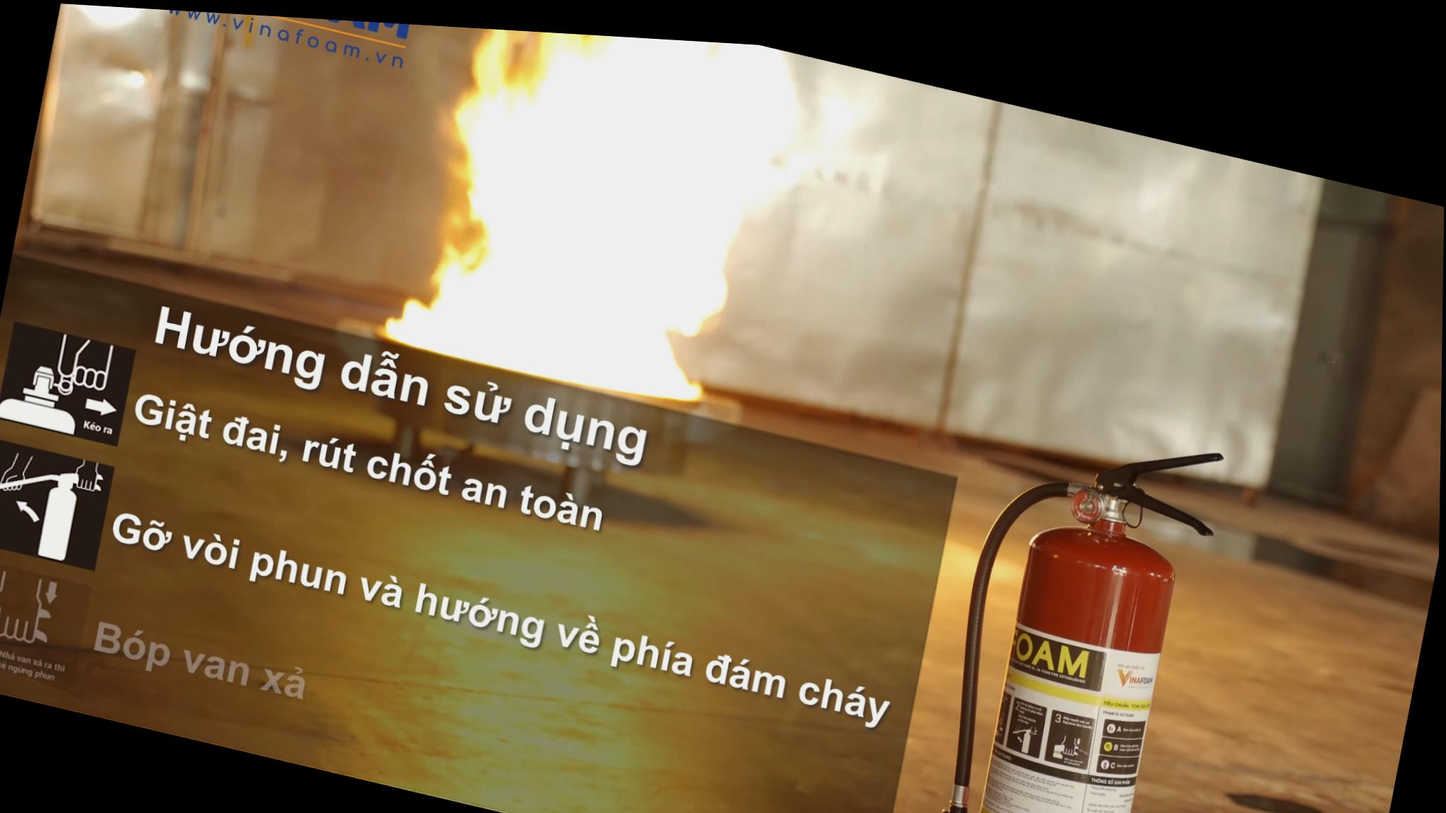FireExtinguisher: (918, 376, 1236, 813)
